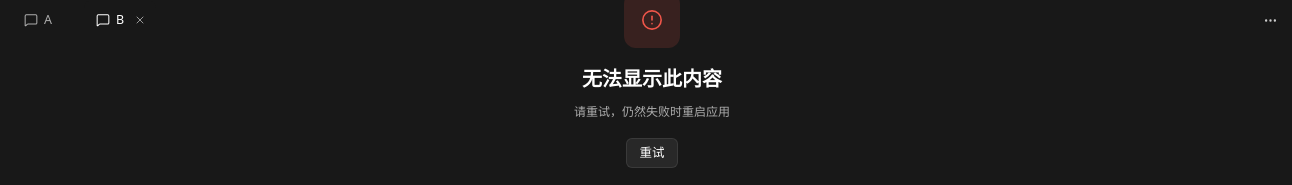
Test: Workspace › keeps a tab that fails to render inside its own panel and remounts it on retry
The image size is (1292, 185).
Check: the message shows "无法显示此内容", box [582, 65, 722, 92]
Check: the element showing "A B" is shown, box [24, 0, 156, 40]
Click the button "重试": (652, 153) [626, 138, 678, 168]
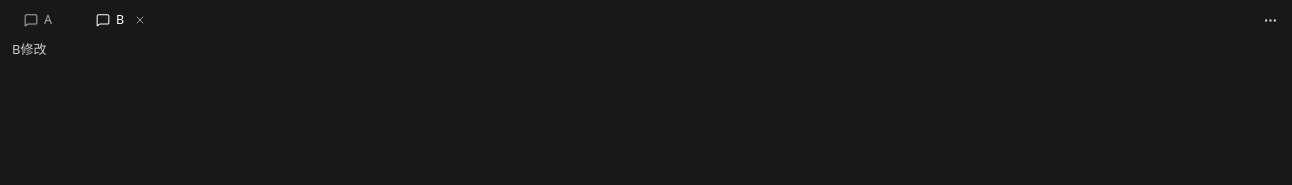
Check: the message "无法显示此内容 请重试，仍然失败时重启应用 重试" is gone
